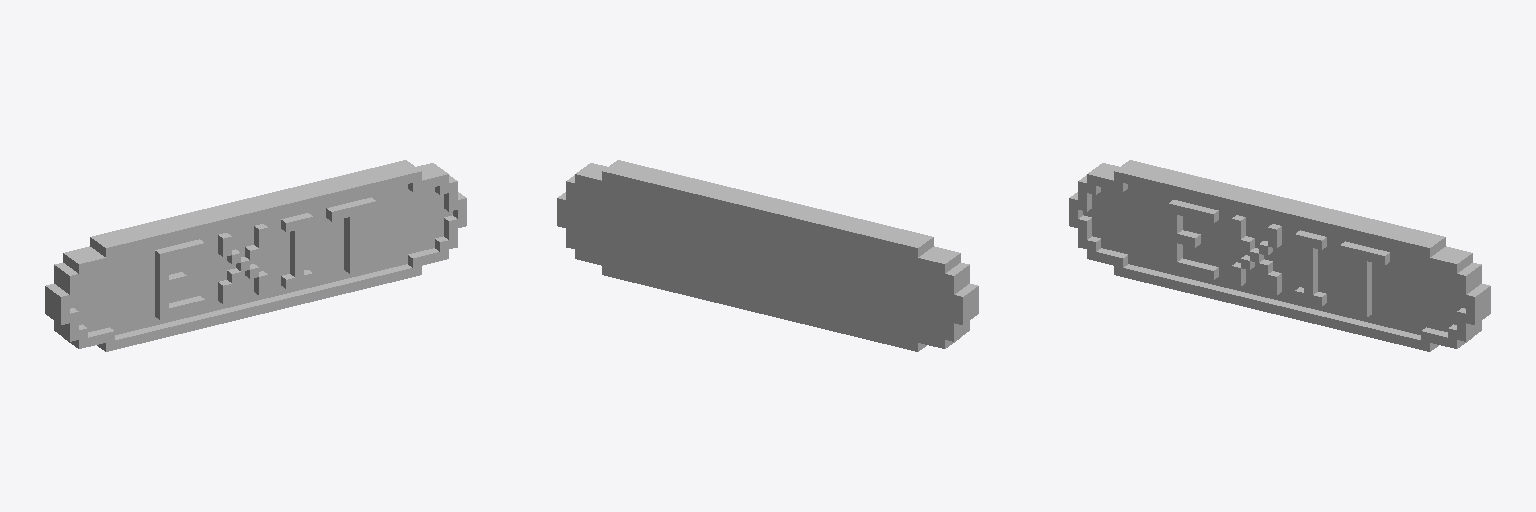
File: Buttons good-2.obj
The picture shows the model from 3 angles: view 1: azimuth 30°, elevation 25°; view 2: azimuth 150°, elevation 25°; view 3: azimuth 330°, elevation 25°; orthographic projection.
Visible parts, largest first — view 1: Buttons good-2; view 2: Buttons good-2; view 3: Buttons good-2.
Part boxes in pixels (left/top/right/bottom): Buttons good-2: left=45, top=160, right=466, bottom=351; Buttons good-2: left=557, top=160, right=978, bottom=351; Buttons good-2: left=1069, top=160, right=1490, bottom=351.
Size of the model in its own units: 45 by 11 by 3.